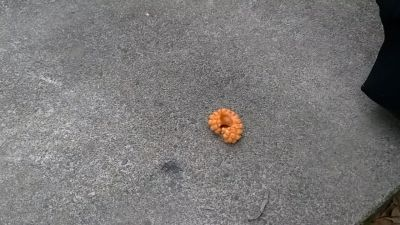eggs: (207, 107, 246, 144)
